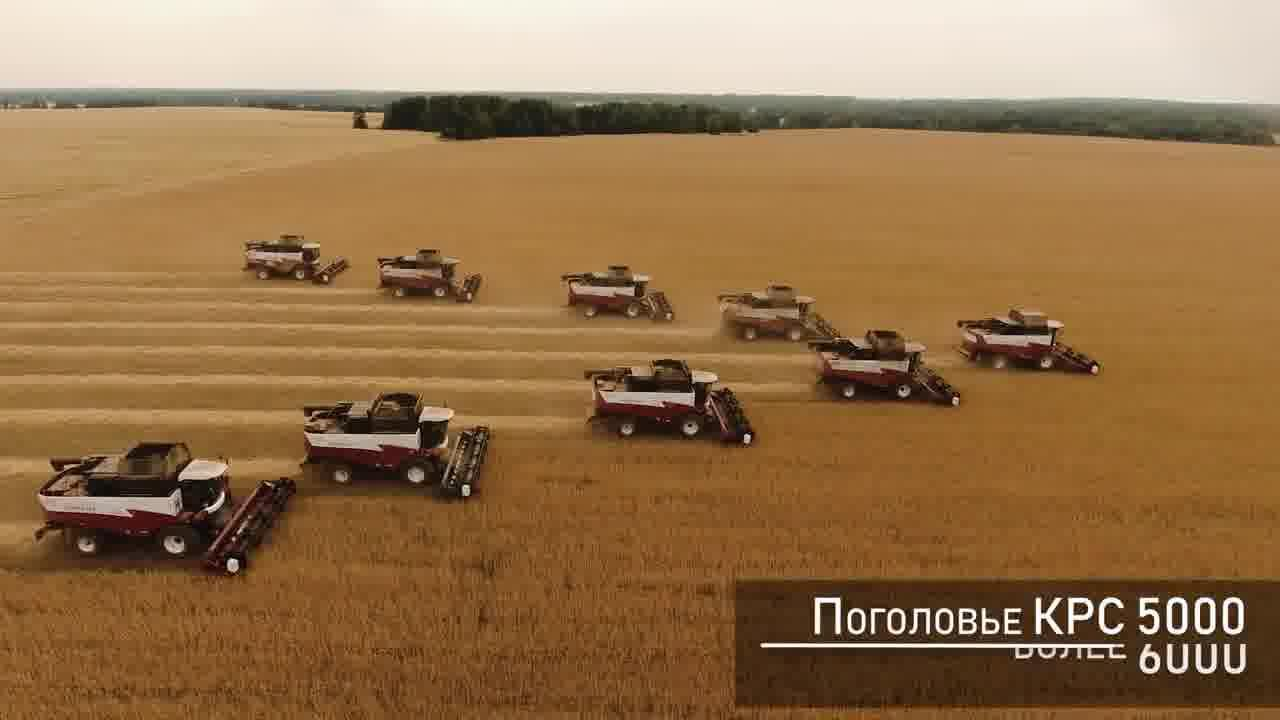combine harvester: (29, 436, 298, 581), (296, 385, 497, 501), (579, 356, 759, 452), (807, 325, 966, 412), (954, 304, 1105, 379), (715, 277, 840, 344), (559, 263, 678, 325), (375, 243, 485, 306), (236, 229, 350, 286)
